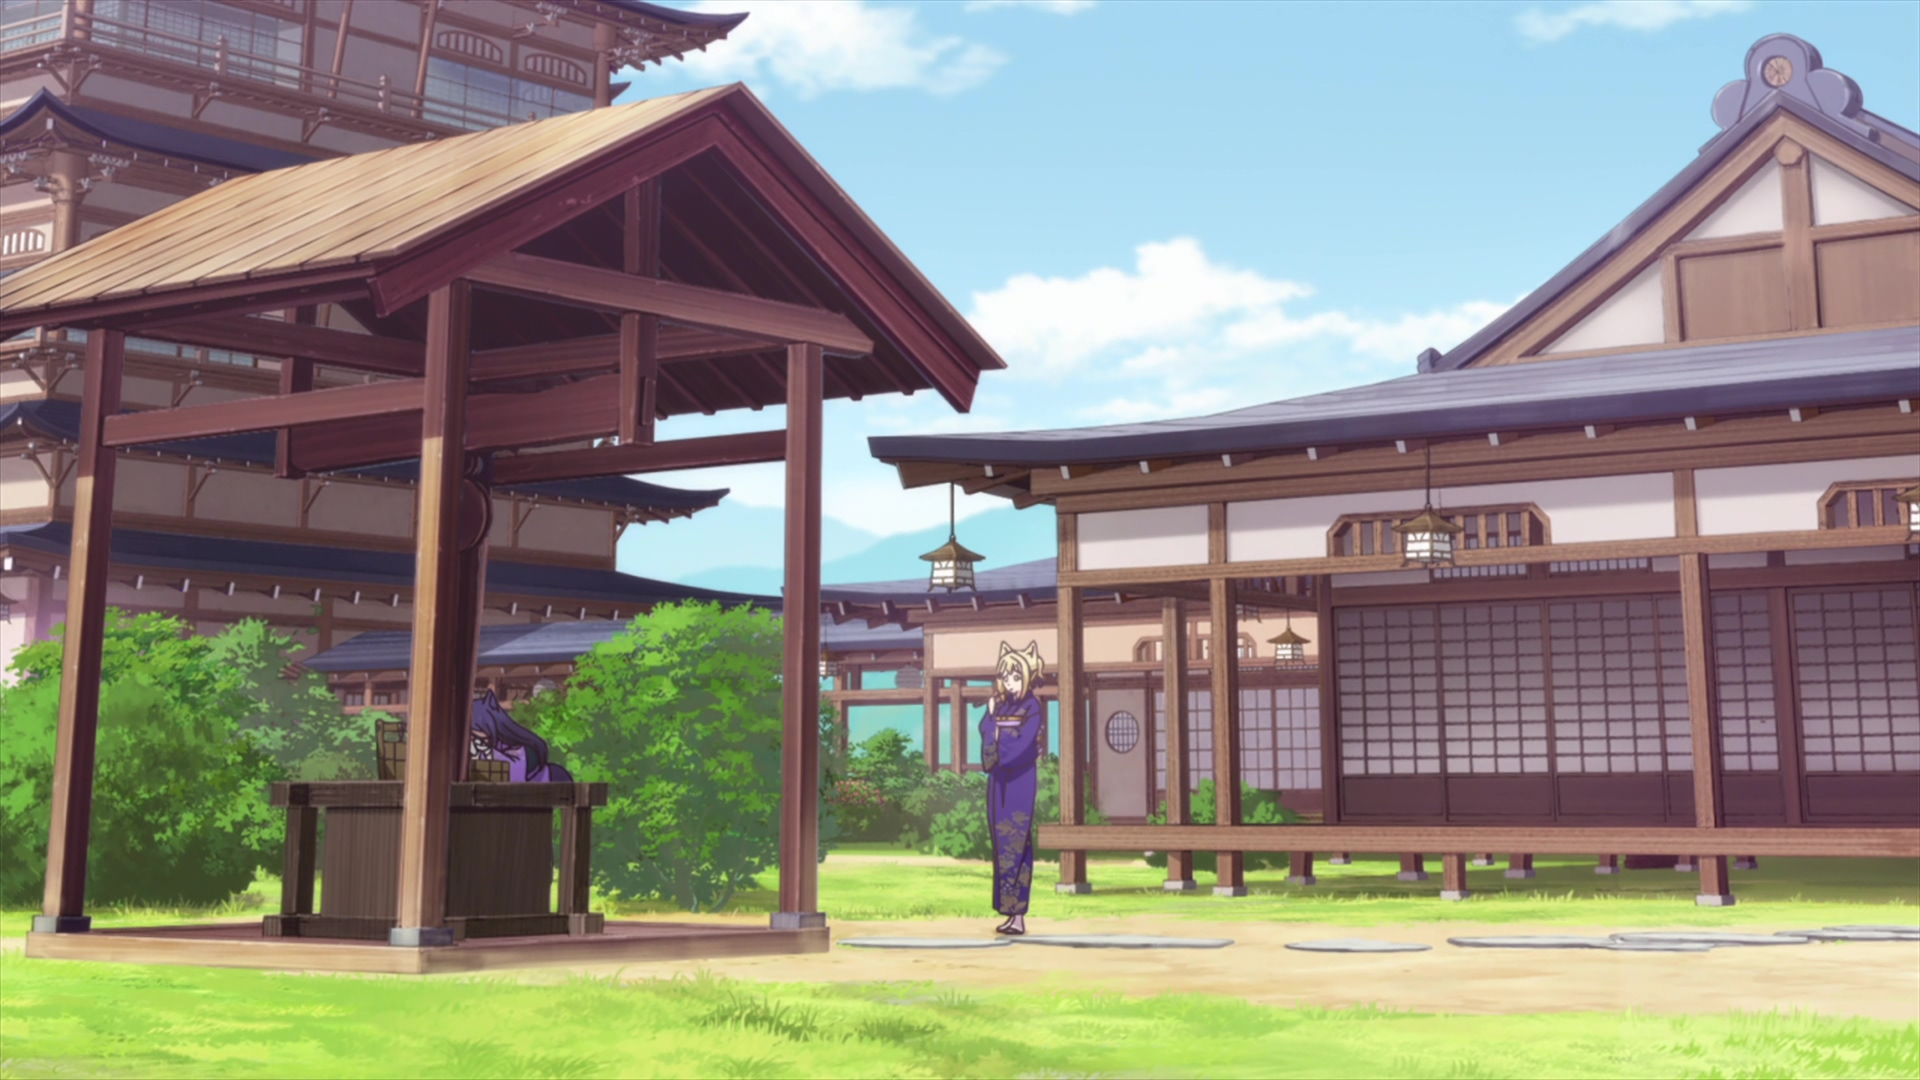桐: (978, 640, 1044, 934)
皋: (467, 687, 568, 785)
